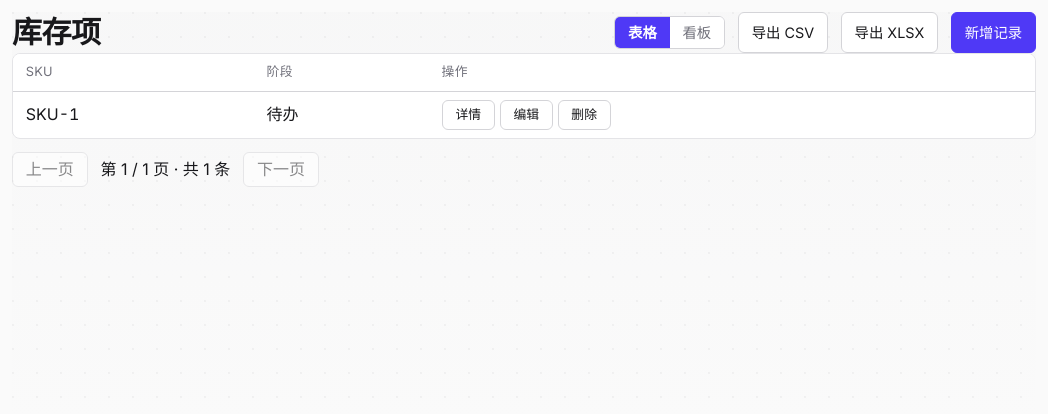
DynamicEntityView：看板拖拽换列编排（P19） › card-move 以补丁语义 PATCH 分组字段，成功后用服务端响应回填本地记录
The width and height of the screenshot is (1048, 414).
Click the button with test id "kanban-toggle".
click(697, 32)  # box [670, 17, 724, 48]
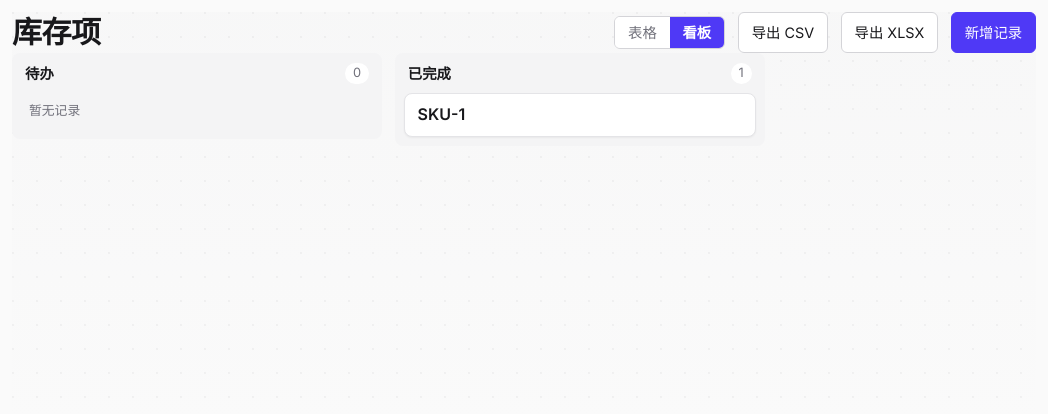
Expected: the text "已完成" is shown, [408, 62, 451, 85]
